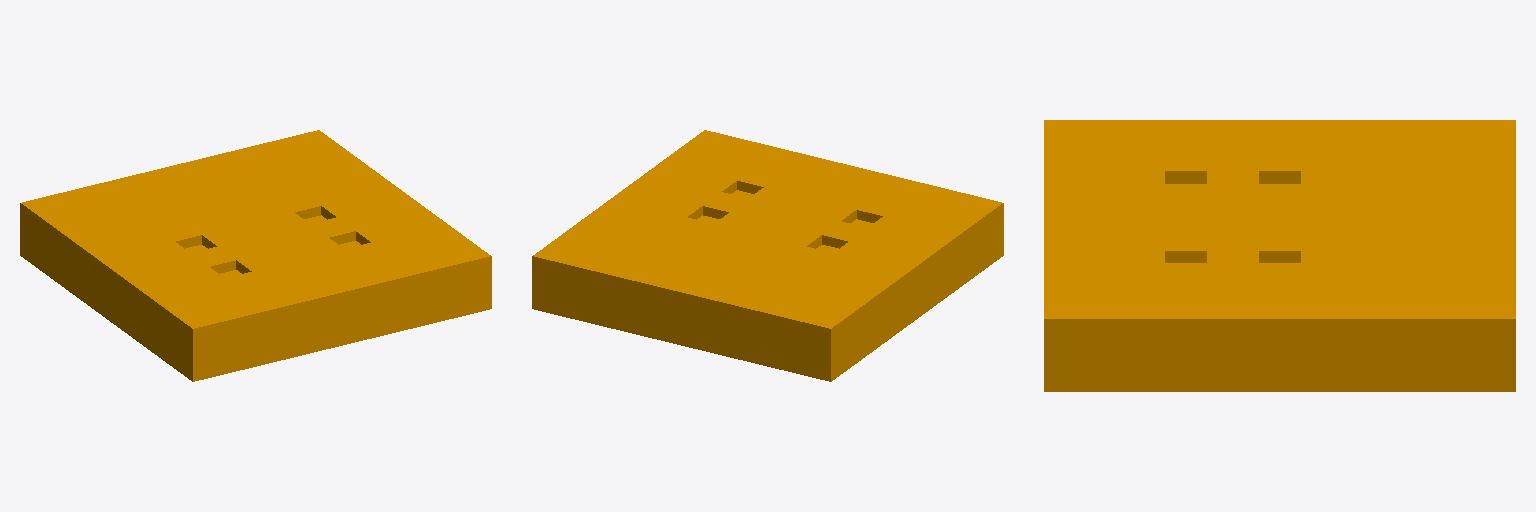
URDF robot description (ban):
<robot name="ban">
  <link name="ban">

    <!-- rosrun gazebo_ros spawn_model -file $(rospack find ur5_single_arm_tufts)/urdf/objects/table.urdf -urdf -x 0.5 -y -0 -z 0.75 -model table -->
    
    <inertial>
      <origin xyz="0 0 0.77" rpy="0 0 1.5707" />
      <mass value="1"/>
      <inertia
        ixx="0.166667" ixy="0.0" ixz="0.0"
        iyy="0.166667" iyz="0.0"
        izz="0.166667"/>
    </inertial>

    <visual>
      <geometry>
         <mesh filename="package://ur5_single_arm_tufts/urdf/objects/dropbox/meshes/ban.STL" />
      </geometry>
    </visual>

    <collision>
      <geometry>
        <mesh filename="package://ur5_single_arm_tufts/urdf/objects/dropbox/meshes/ban.STL" />
      </geometry>
    </collision>

  </link>

  <gazebo reference="ban">
    <material>Gazebo/Green</material>
  </gazebo> 
  

  <gazebo>
    <static>true</static>
  </gazebo>
  

</robot>

--- Facts derived from the render (not from the file) ---
Views: 3 orthographic renders of the robot side by side, from view 1: azimuth 30°, elevation 25°; view 2: azimuth 150°, elevation 25°; view 3: azimuth 270°, elevation 25°.
Model ban with 1 links and 0 joints (none), rooted at ban, posed every joint at zero.
Visible links, largest first — view 1: ban; view 2: ban; view 3: ban.
Link boxes in pixels (box(x1,y1,x2,y2)): ban: box(20, 130, 491, 381); ban: box(532, 130, 1003, 381); ban: box(1044, 120, 1515, 391).
Size in the robot's own frame: 0.5 by 0.5 by 0.085 metres.
Meshes: 1 distinct files referenced, 1 mesh visuals loaded (1 binary STL).
